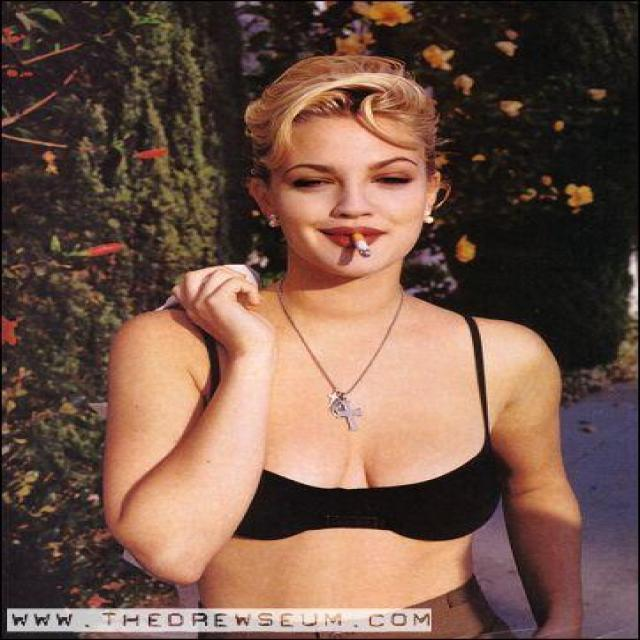cigarette: (332, 223, 378, 279)
